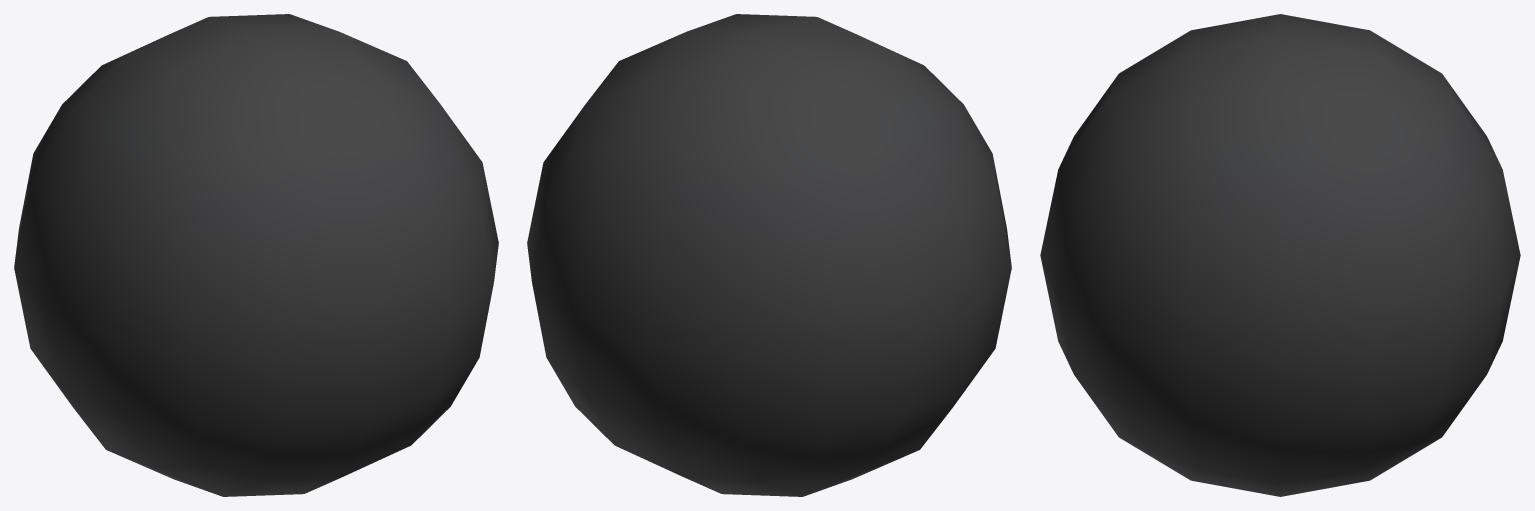
Rendered from cannonBall_1.fbx.
3 views of the same model, side by side, from view 1: azimuth 30°, elevation 25°; view 2: azimuth 150°, elevation 25°; view 3: azimuth 270°, elevation 25° (orthographic).
Visible parts, largest first — view 1: Cube; view 2: Cube; view 3: Cube.
Part boxes in pixels (x1,y1,x2,y2): Cube: (14, 14, 498, 496); Cube: (527, 14, 1011, 496); Cube: (1040, 14, 1520, 496).
Size of the model in its own units: 23.75 by 23.75 by 23.75.
